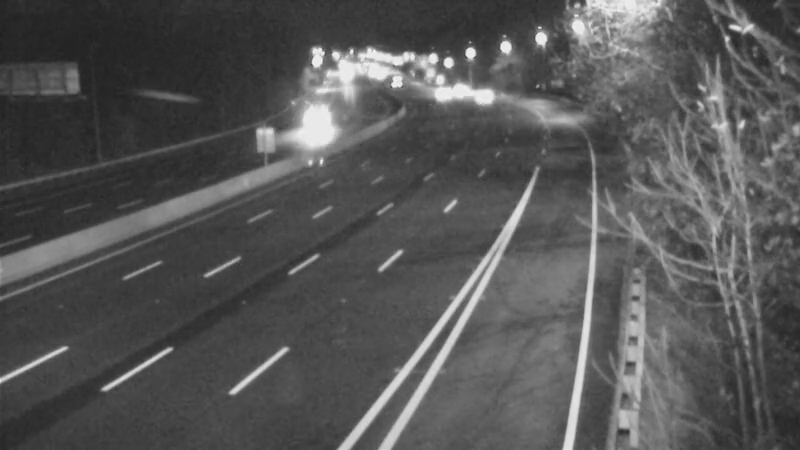vehicle: (369, 56, 419, 106), (436, 64, 486, 114), (462, 70, 512, 120), (417, 70, 467, 120), (285, 99, 335, 149)
